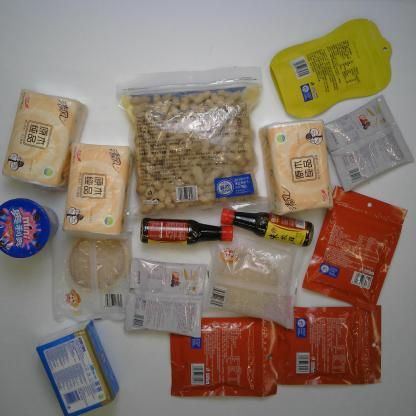Dessert: (202, 236, 301, 331), (48, 221, 134, 324), (0, 197, 60, 259)
Dried Food: (113, 64, 268, 220)
Dried Fruit: (300, 183, 408, 312), (268, 17, 393, 119), (267, 302, 384, 388), (168, 316, 279, 400)
Instant Drink: (315, 94, 414, 194), (122, 258, 208, 338)
Seasoner: (218, 206, 314, 247), (139, 216, 235, 247)
Tissue: (2, 88, 88, 190), (35, 317, 120, 414), (258, 119, 334, 218), (61, 142, 134, 237)
